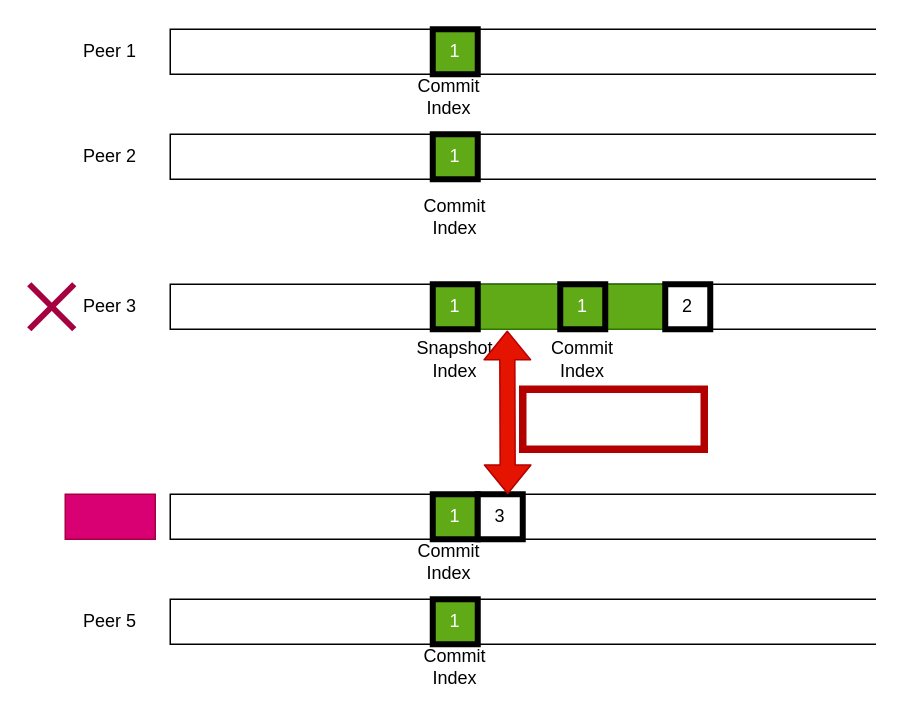
The diagram is 902 pixels wide and 714 high, and some of its shapes have lost their labels. Here are the shapes that lost their labels. From the top down, the centre of each, then its label:
At pixel 612 418: "Conflict!".
At pixel 109 516: "Leader 4".
